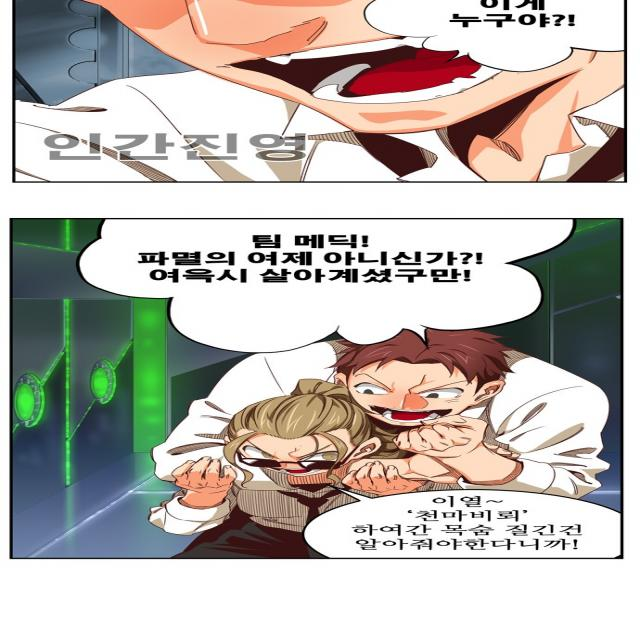Bubble: (75, 218, 580, 354), (307, 489, 626, 560), (367, 0, 631, 73)
